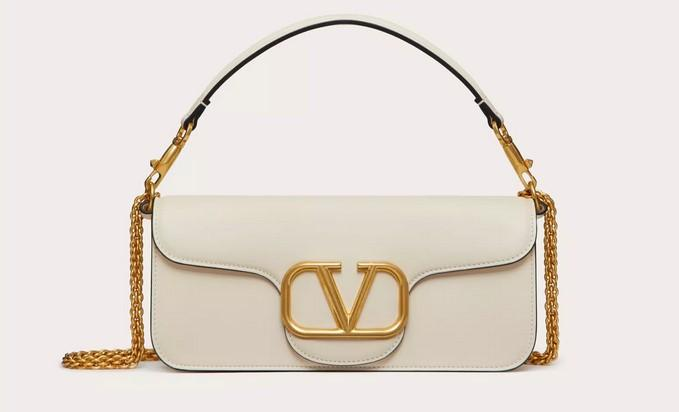VALENTINO: (281, 261, 409, 339)
